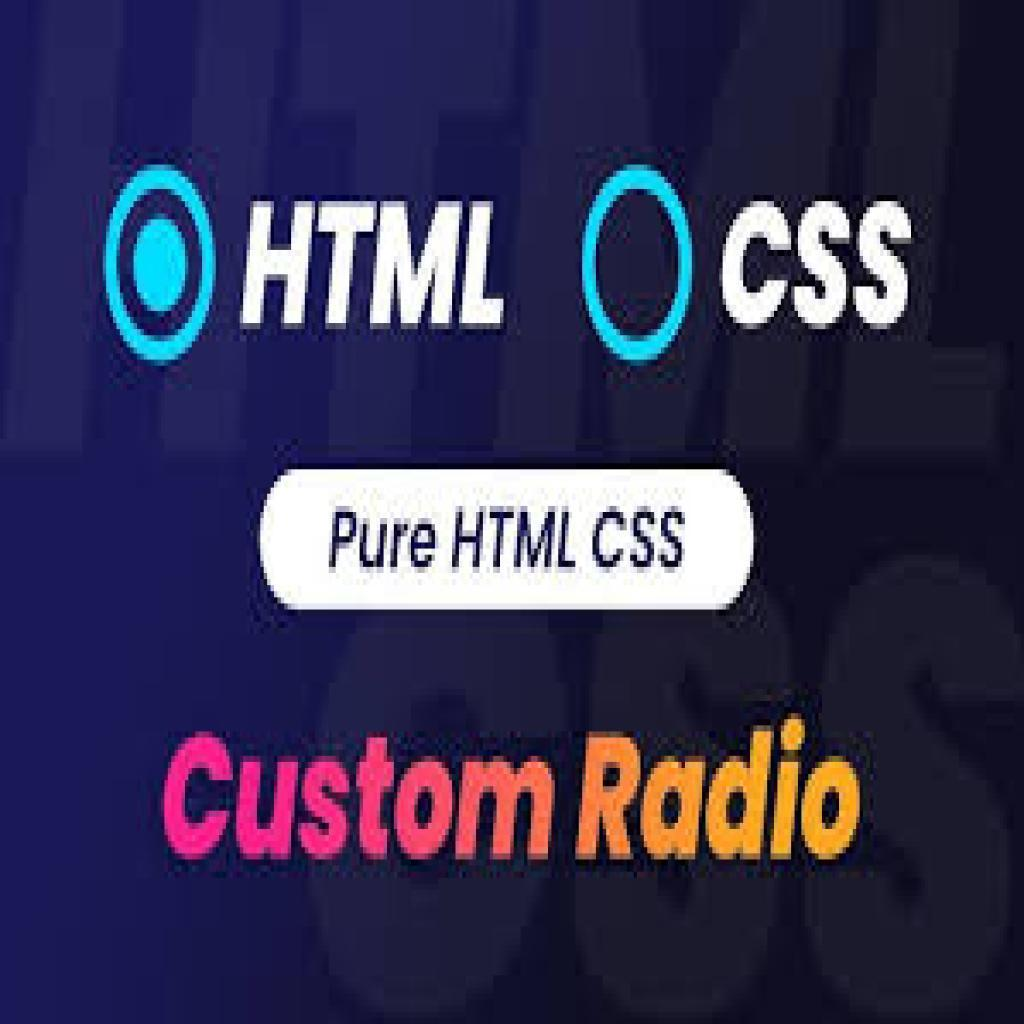button: (261, 471, 753, 608)
label: (160, 714, 872, 864), (241, 194, 508, 333), (721, 197, 912, 337)
radio: (106, 167, 218, 368), (583, 165, 693, 365)
